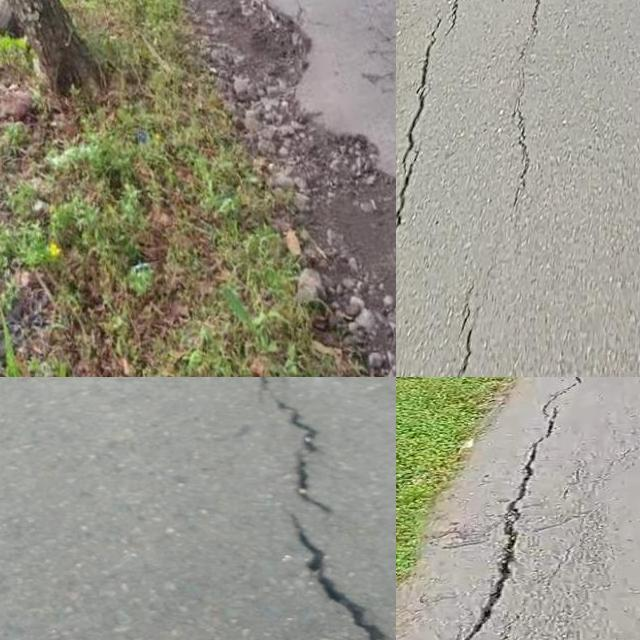Memanjang: (432, 377, 594, 640), (251, 377, 391, 640), (396, 0, 476, 289), (507, 0, 549, 191), (446, 278, 493, 377)
Pinggir: (187, 0, 396, 366)
